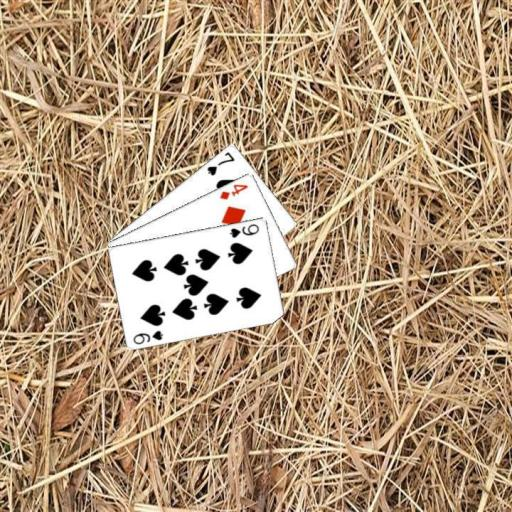card-corner: (204, 148, 236, 177), (227, 220, 261, 239), (130, 327, 164, 346), (217, 180, 249, 200)
